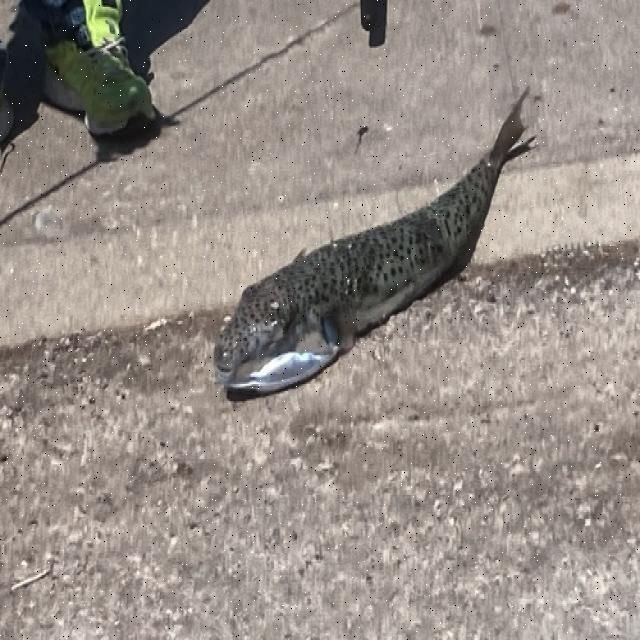Balik: (214, 91, 533, 394)
